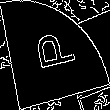P_W: (31, 31, 79, 79)
